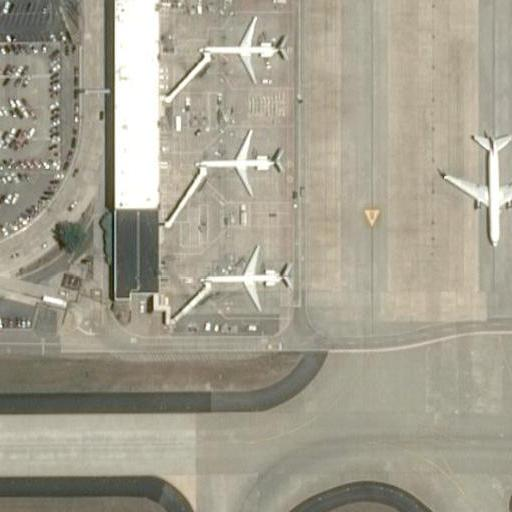Aircraft: (438, 132, 512, 251), (193, 131, 286, 198), (201, 244, 291, 310), (199, 18, 286, 82)
